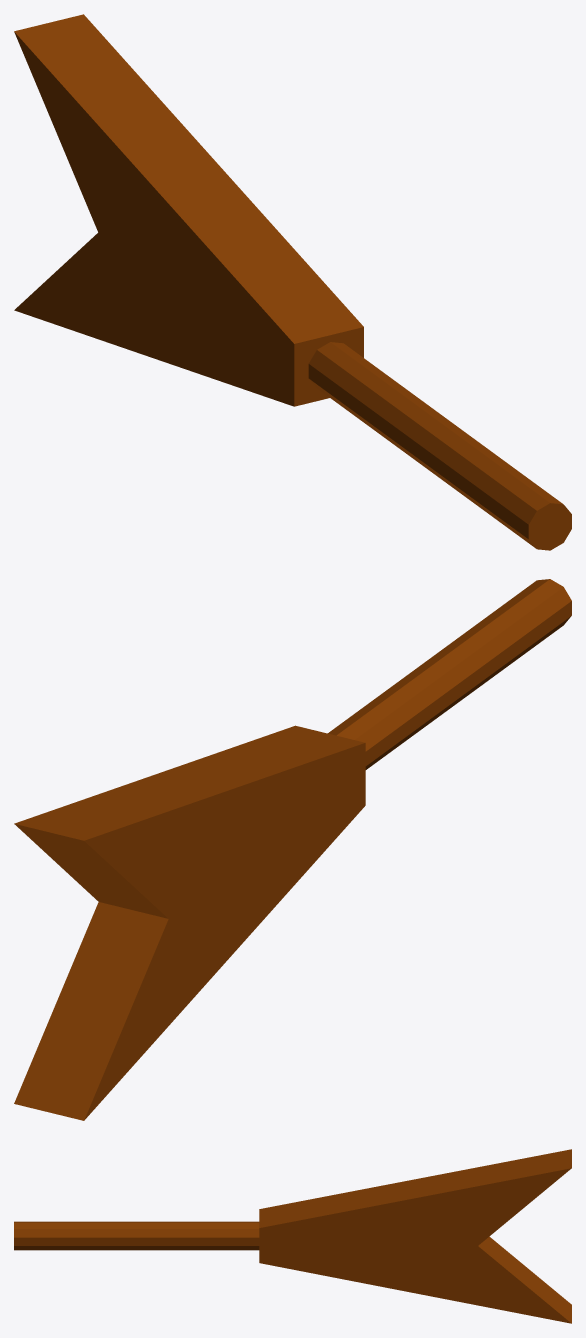
The model's file is windArrow.gltf.
3 renders of one model, top to bottom at view 1: azimuth 30°, elevation 25°; view 2: azimuth 150°, elevation 25°; view 3: azimuth 270°, elevation 25°, orthographic. The views are drawn at different scales.
Parts seen in each view (by area): view 1: Cube, Cylinder.001; view 2: Cube, Cylinder.001; view 3: Cube, Cylinder.001.
Part boxes in pixels (left/top/right/bottom): Cube: left=14, top=14, right=363, bottom=406; Cylinder.001: left=308, top=342, right=571, bottom=550; Cube: left=14, top=725, right=365, bottom=1120; Cylinder.001: left=328, top=579, right=571, bottom=769; Cube: left=259, top=1149, right=571, bottom=1323; Cylinder.001: left=14, top=1221, right=259, bottom=1250.
Size of the model in its own units: 0.3612 by 1.38 by 4.49.
